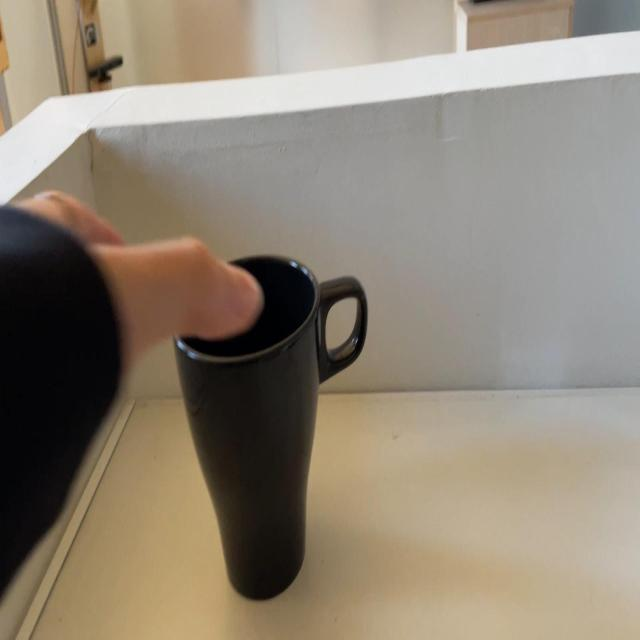cup: (172, 250, 370, 610)
